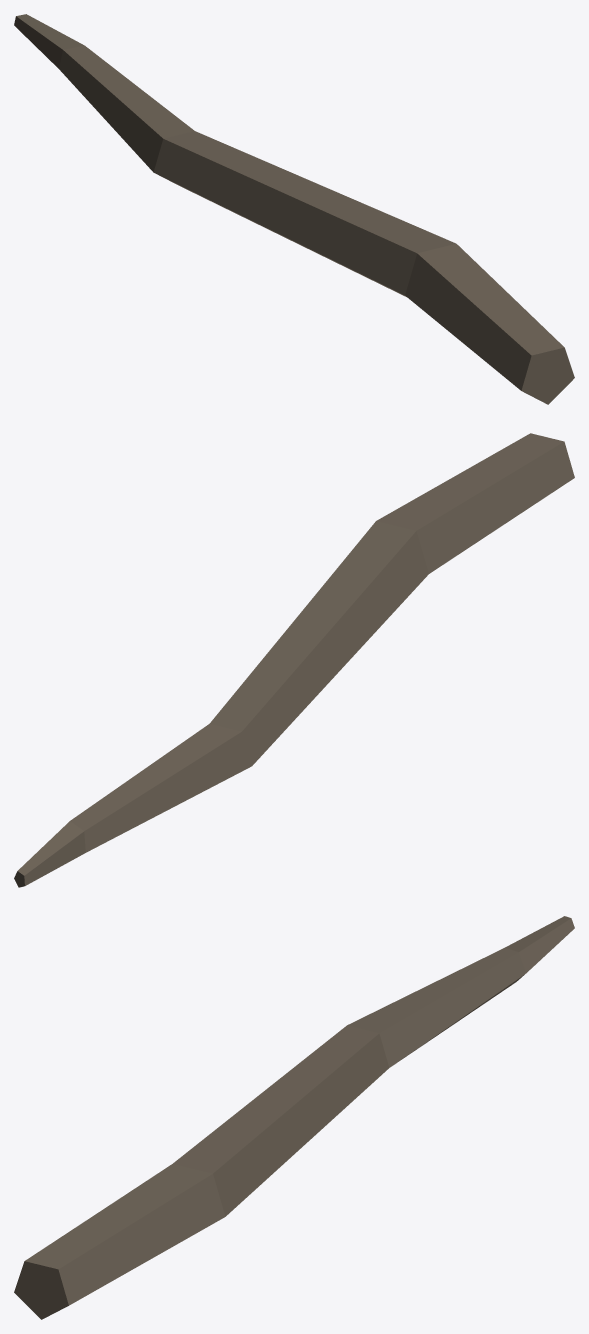
The model's file is Branch3.glb.
3 views of the same model, one above another, from view 1: azimuth 30°, elevation 25°; view 2: azimuth 150°, elevation 25°; view 3: azimuth 330°, elevation 25° (orthographic). The views are drawn at different scales.
Parts seen in each view (by area): view 1: Branch_1; view 2: Branch_1; view 3: Branch_1.
Boxes of the visible parts, x1=… form: Branch_1: x1=14, y1=14, x2=574, y2=404; Branch_1: x1=14, y1=433, x2=574, y2=887; Branch_1: x1=14, y1=916, x2=574, y2=1319.
Size of the model in its own units: 0.2122 by 0.1598 by 1.86.
1 material, 1 textured.
